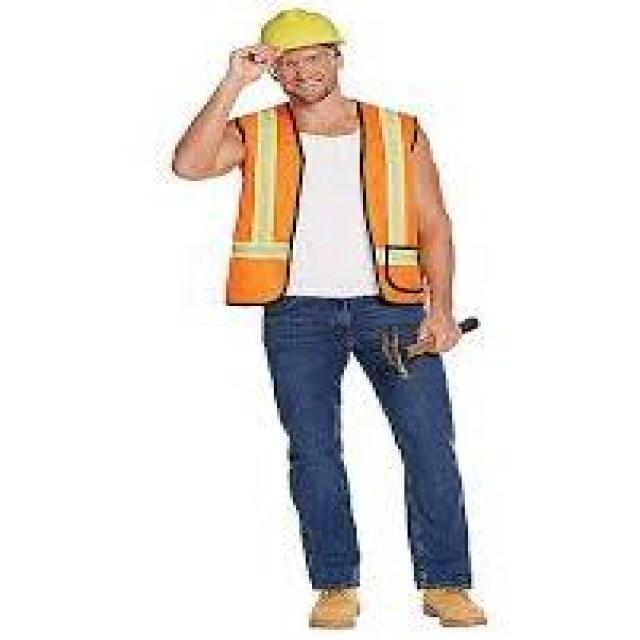Reflective-Jacket: (220, 94, 446, 314)
Safety-Helmet: (248, 0, 360, 61)
